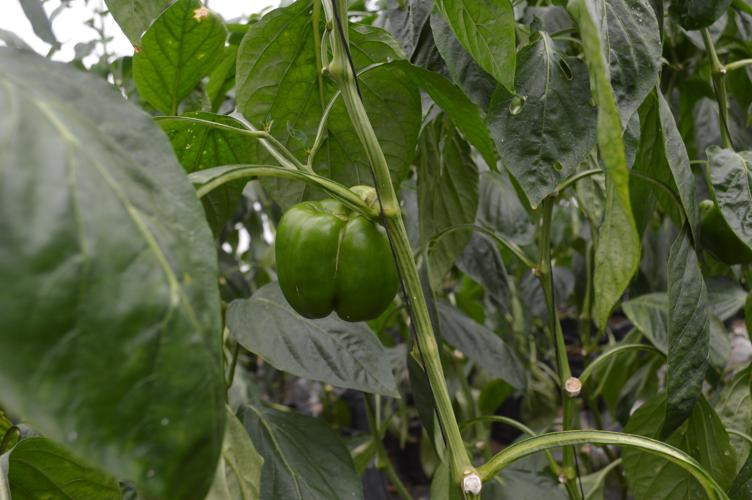BellPepper: (273, 203, 398, 321)
